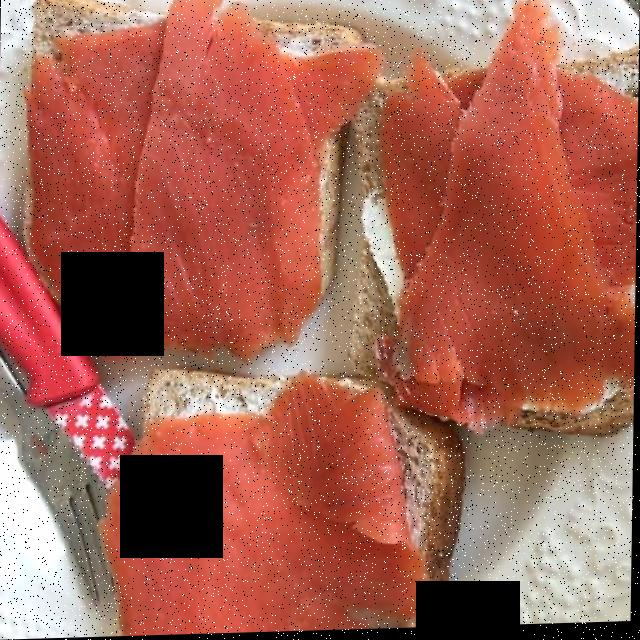salmon-smoked: (28, 9, 635, 628)
